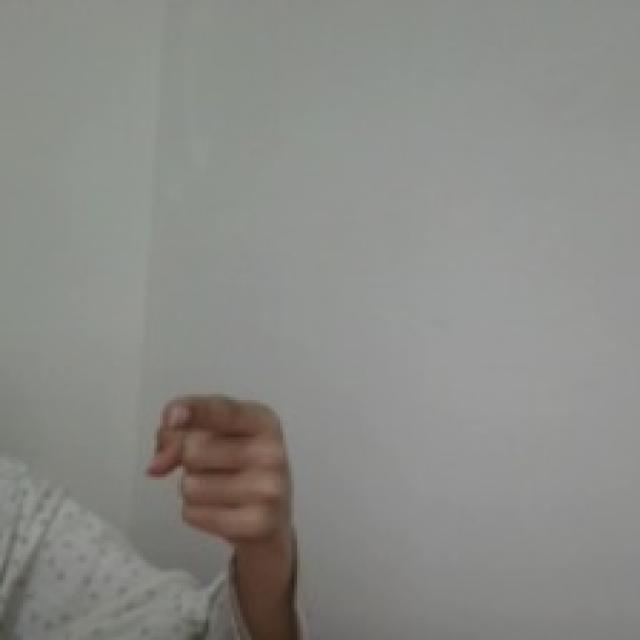you: (140, 379, 302, 555)
